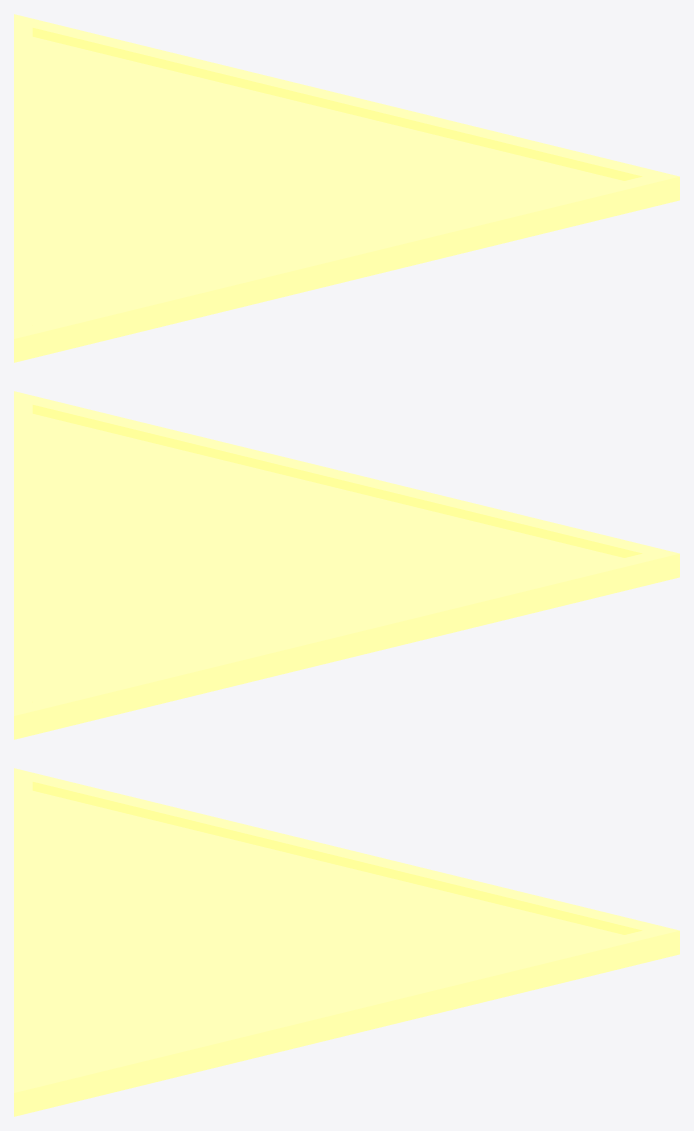
File: SFI0310028.fbx
3 renders of one model, top to bottom at view 1: azimuth 30°, elevation 25°; view 2: azimuth 150°, elevation 25°; view 3: azimuth 270°, elevation 25°, orthographic.
Parts seen in each view (by area): view 1: smSFI0310028; view 2: smSFI0310028; view 3: smSFI0310028.
Part boxes in pixels (bbox=[...]): smSFI0310028: bbox=[14, 14, 679, 362]; smSFI0310028: bbox=[14, 391, 679, 739]; smSFI0310028: bbox=[14, 768, 679, 1116].
Size of the model in its own units: 173 by 5.93 by 150.
